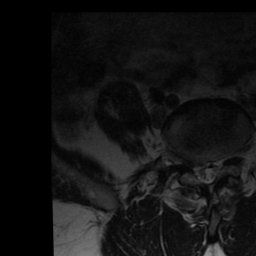CCS_normal: (204, 156, 212, 190)
LFS_severe_stenosis: (221, 149, 229, 170)
LLS_normal: (212, 153, 220, 183)
RFS_severe_stenosis: (186, 152, 195, 178)
RLS_normal: (195, 157, 203, 188)
